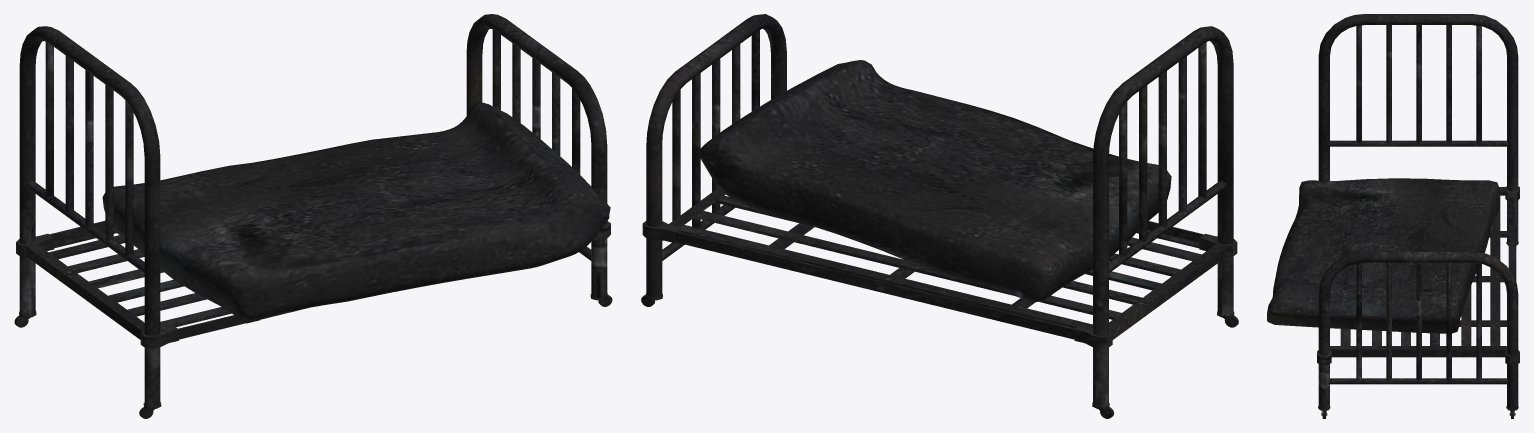
3 views of the same model, side by side, from view 1: azimuth 30°, elevation 25°; view 2: azimuth 150°, elevation 25°; view 3: azimuth 270°, elevation 25° (orthographic). The views are drawn at different scales.
Visible parts, largest first — view 1: SM_Object_01; view 2: SM_Object_01; view 3: SM_Object_01.
Boxes of the visible parts, box(x1,y1,x2,y2) form: SM_Object_01: box(14, 14, 612, 418); SM_Object_01: box(641, 14, 1238, 418); SM_Object_01: box(1267, 14, 1519, 418).
Size of the model in its own units: 219 by 135 by 140.
Materials: 1 (1 with a texture image).
